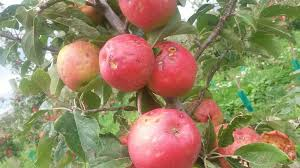apple: (125, 109, 201, 168)
damaged_apple: (98, 34, 152, 91), (145, 41, 197, 96), (52, 43, 102, 90)
